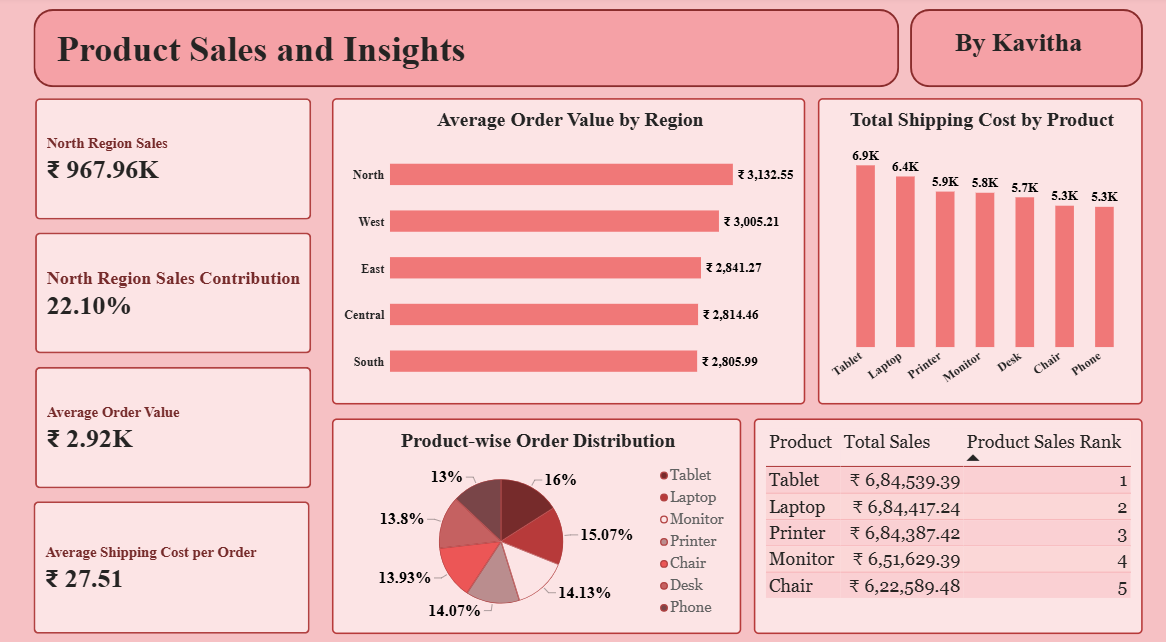

Layout of this report page (visuals, bound fields, positions):
{"tool":"powerbi","page":{"name":"Page 2","canvas":[1920,1080],"ordinal":1},"visuals":[{"type":"tableEx","fields":{"Values":["Sheet1.Product","Sheet1.Total Sales","Sheet1.Product Sales Rank"]},"box":[1234.7,689.9,633.9,351.3],"z":0},{"type":"cardVisual","fields":{"Data":["Sheet1.North Region Sales"]},"box":[63.6,168,450.6,198.6],"z":1000},{"type":"cardVisual","fields":{"Data":["Sheet1.North Sales Contribution %"]},"box":[63.6,387,450.6,197.4],"z":2000},{"type":"cardVisual","fields":{"Data":["Sheet1.Average Order Value"]},"box":[63.6,605.9,450.6,198.6],"z":3000},{"type":"clusteredBarChart","title":"Average Order Value by Region","fields":{"Category":["Sheet1.Region"],"Y":["Sheet1.Average Order Value"]},"box":[547.3,168,771.4,499],"z":4000},{"type":"clusteredColumnChart","fields":{"Category":["Sheet1.Product"],"Y":["Sheet1.Total Shipping Cost"]},"box":[1339.1,168,529.5,499],"z":5000},{"type":"cardVisual","fields":{"Data":["Sheet1.Average Shipping Cost per Order"]},"box":[61.1,824.8,450.6,216.4],"z":6000},{"type":"pieChart","title":"Product-wise Order Distribution","fields":{"Category":["Sheet1.Product"],"Y":["Sheet1.Total orders"]},"box":[547.3,689.9,667,351.3],"z":7000},{"type":"shape","box":[61.1,22.9,1410.4,127.3],"z":8000},{"type":"textbox","box":[99.3,53.5,865.6,71.3],"z":9000},{"type":"shape","box":[1489.3,22.9,379.3,127.3],"z":9001},{"type":"textbox","box":[1514.7,53.5,302.9,96.7],"z":9002}]}

Visuals, with their boxes in screenshot pixels (x1, y1, x2, y2), scaled from the page's 1920x1080 canvas onto the 1166x642 screenshot:
tableEx - Sheet1.Product x Sheet1.Total Sales: x1=750, y1=410, x2=1135, y2=619
cardVisual - Sheet1.North Region Sales: x1=39, y1=100, x2=312, y2=218
cardVisual - Sheet1.North Sales Contribution %: x1=39, y1=230, x2=312, y2=347
cardVisual - Sheet1.Average Order Value: x1=39, y1=360, x2=312, y2=478
"Average Order Value by Region" clusteredBarChart: x1=332, y1=100, x2=801, y2=396
clusteredColumnChart - Sheet1.Product x Sheet1.Total Shipping Cost: x1=813, y1=100, x2=1135, y2=396
cardVisual - Sheet1.Average Shipping Cost per Order: x1=37, y1=490, x2=311, y2=619
"Product-wise Order Distribution" pieChart: x1=332, y1=410, x2=737, y2=619
shape: x1=37, y1=14, x2=894, y2=89
textbox: x1=60, y1=32, x2=586, y2=74
shape: x1=904, y1=14, x2=1135, y2=89
textbox: x1=920, y1=32, x2=1104, y2=89
